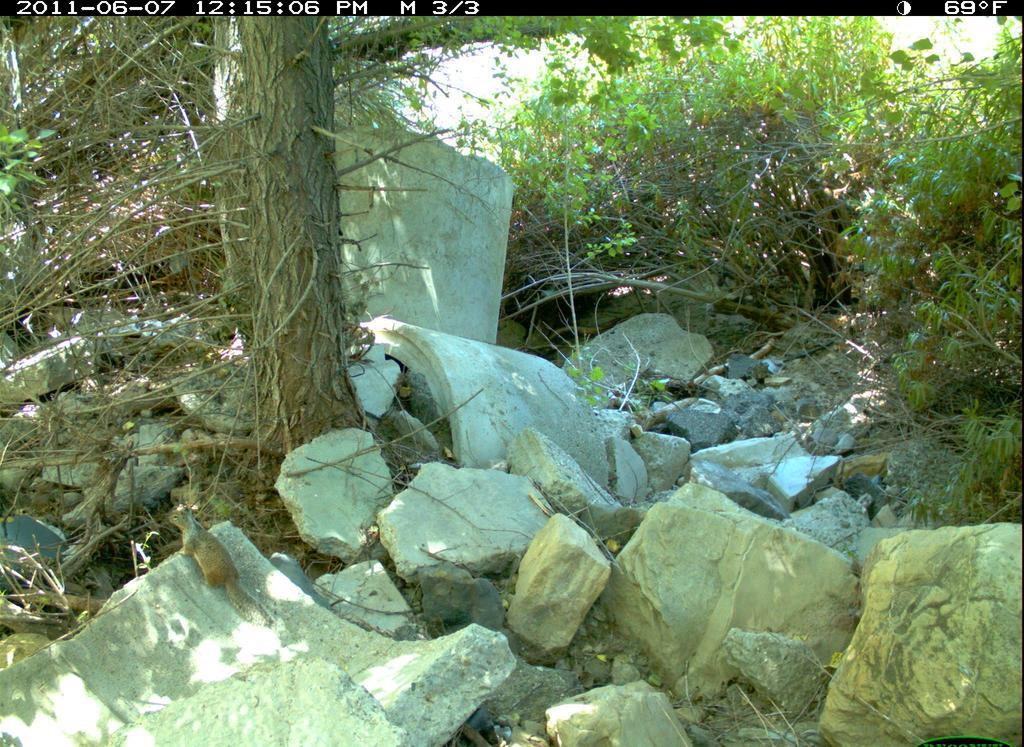squirrel: (158, 500, 277, 637)
